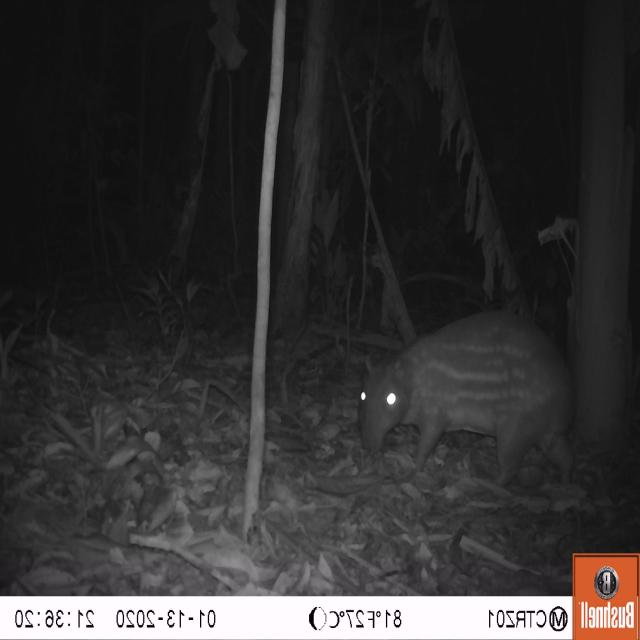Spotted Paca: (344, 296, 594, 508)
